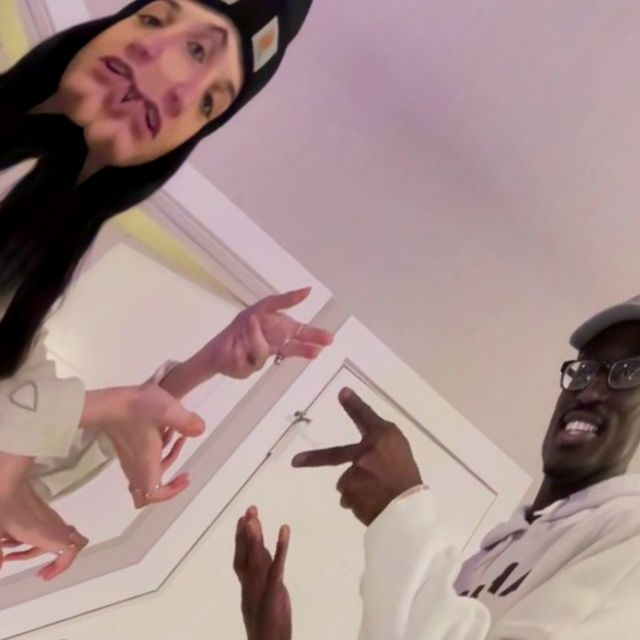Scissors: (0, 635, 57, 640)
